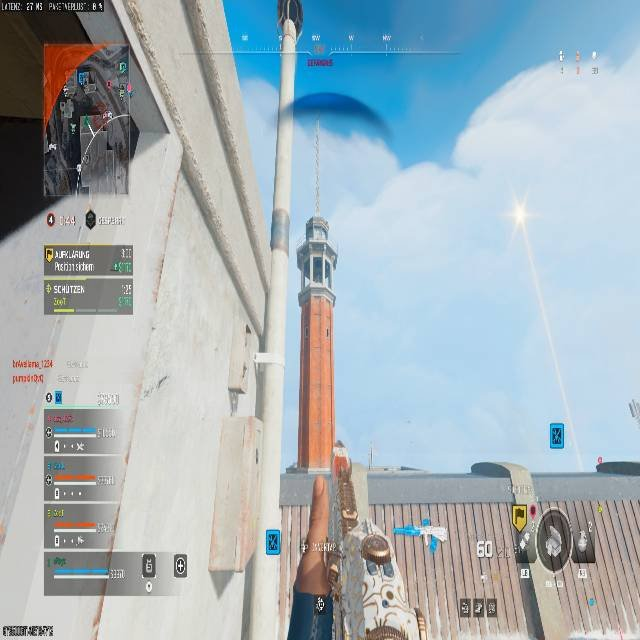head: (356, 524, 391, 569), (340, 504, 358, 531)
player: (47, 45, 138, 199), (290, 502, 392, 639)
